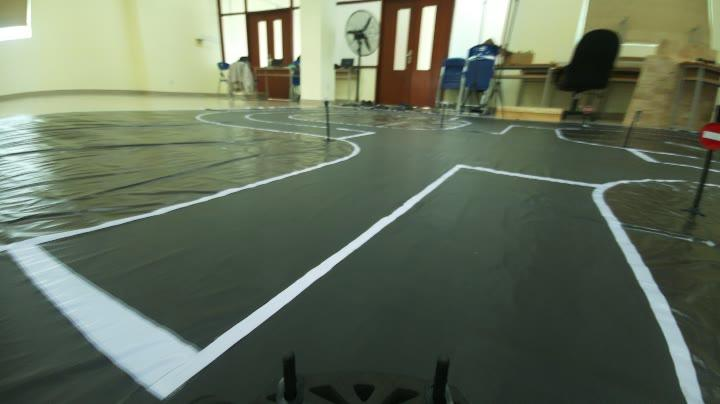no_entry: (695, 119, 720, 153)
